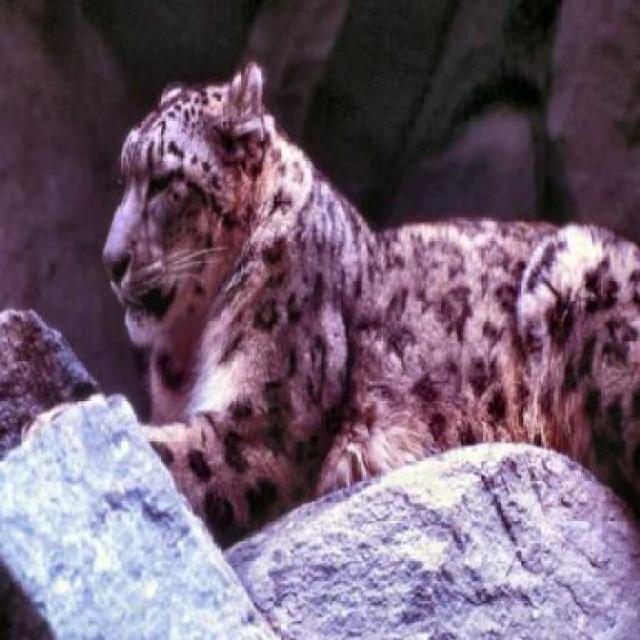Leopard: (64, 38, 638, 596)
